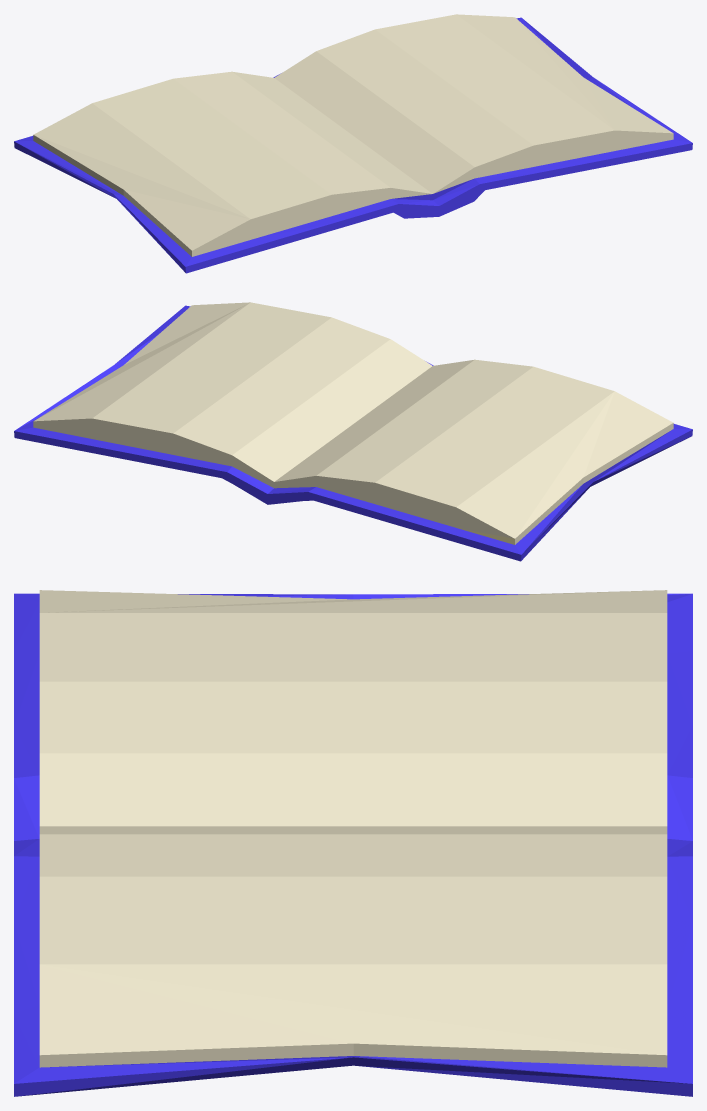
The model's file is open_book_b.fbx.
3 renders of one model, top to bottom at view 1: azimuth 30°, elevation 25°; view 2: azimuth 150°, elevation 25°; view 3: azimuth 270°, elevation 25°, orthographic. The views are drawn at different scales.
Parts seen in each view (by area): view 1: Box001; view 2: Box001; view 3: Box001.
Part boxes in pixels (x1,y1,x2,y2): Box001: (14,14,692,273); Box001: (14,302,692,561); Box001: (14,590,692,1096).
Bounding box in the file's own units: 116 × 9.19 × 68.
